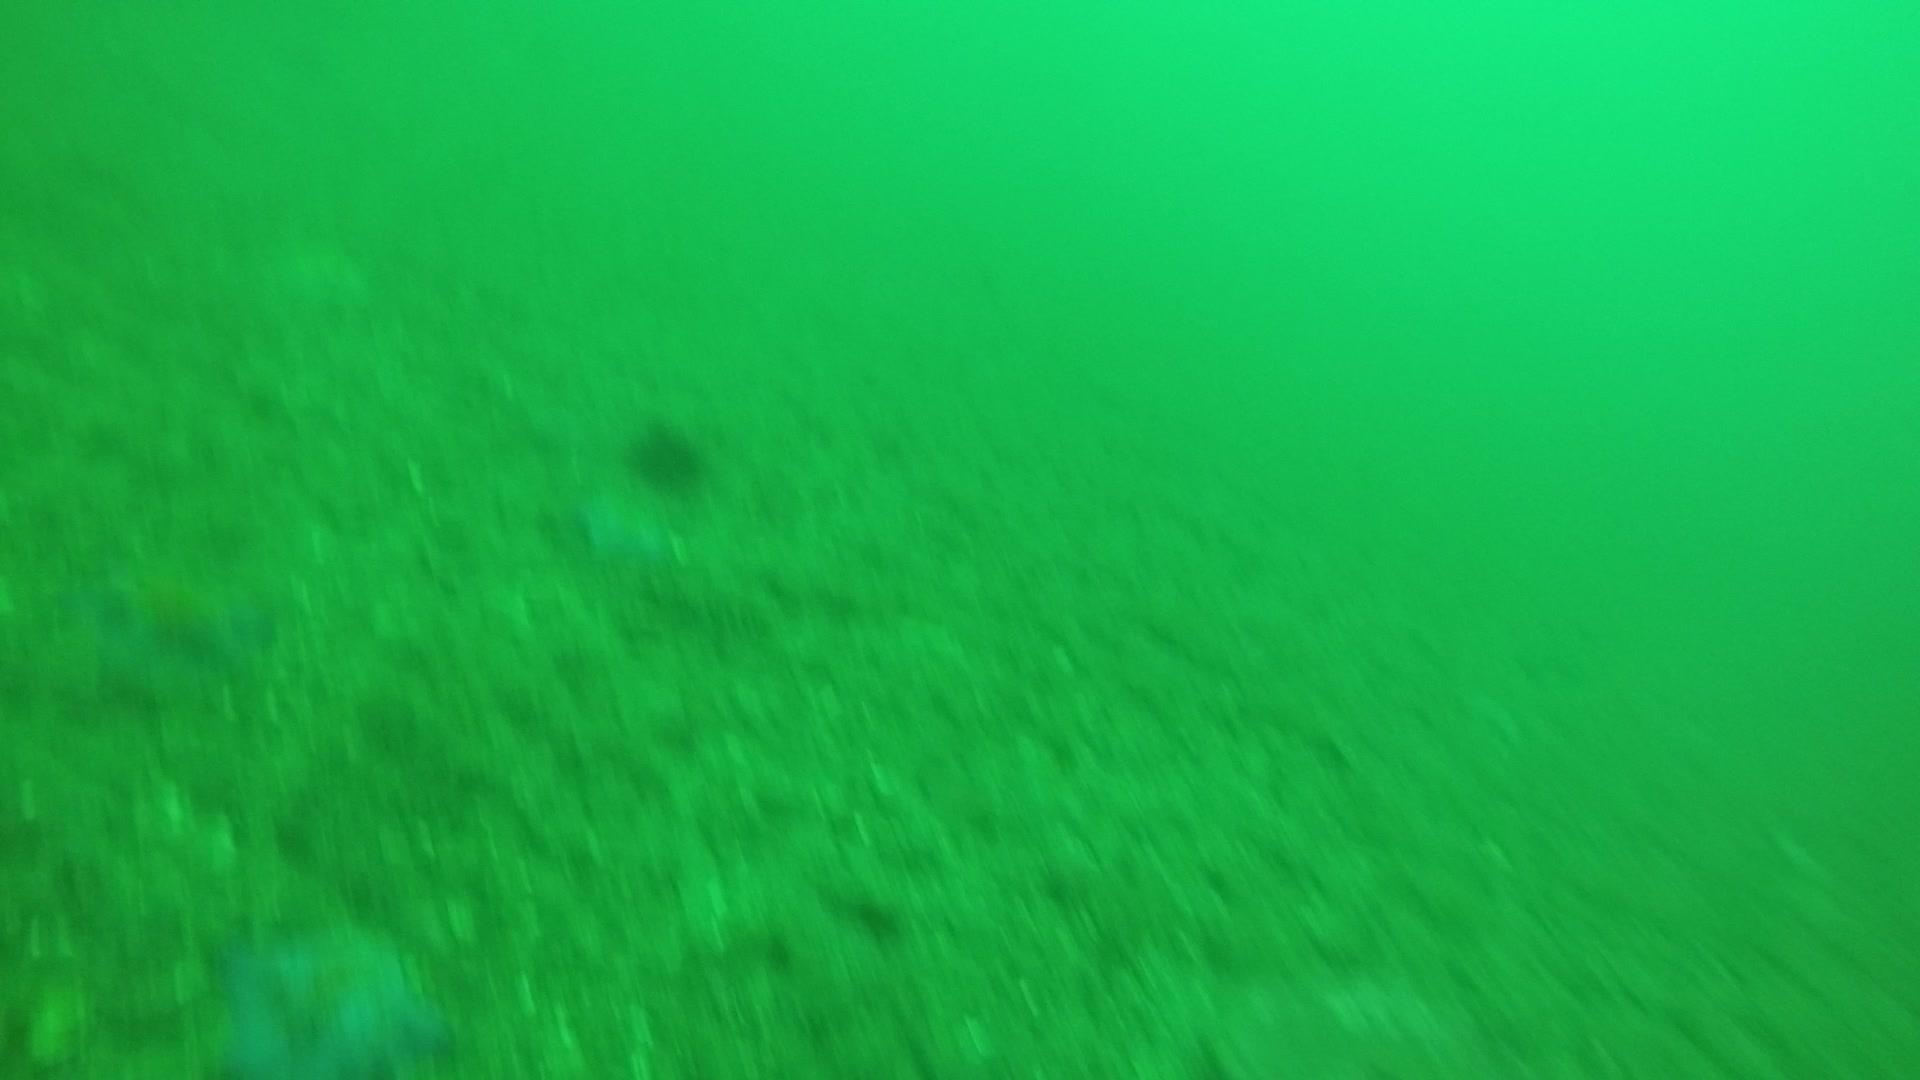echinus: (625, 415, 709, 495)
starfish: (195, 906, 455, 1079), (61, 535, 278, 700), (571, 481, 683, 575)
